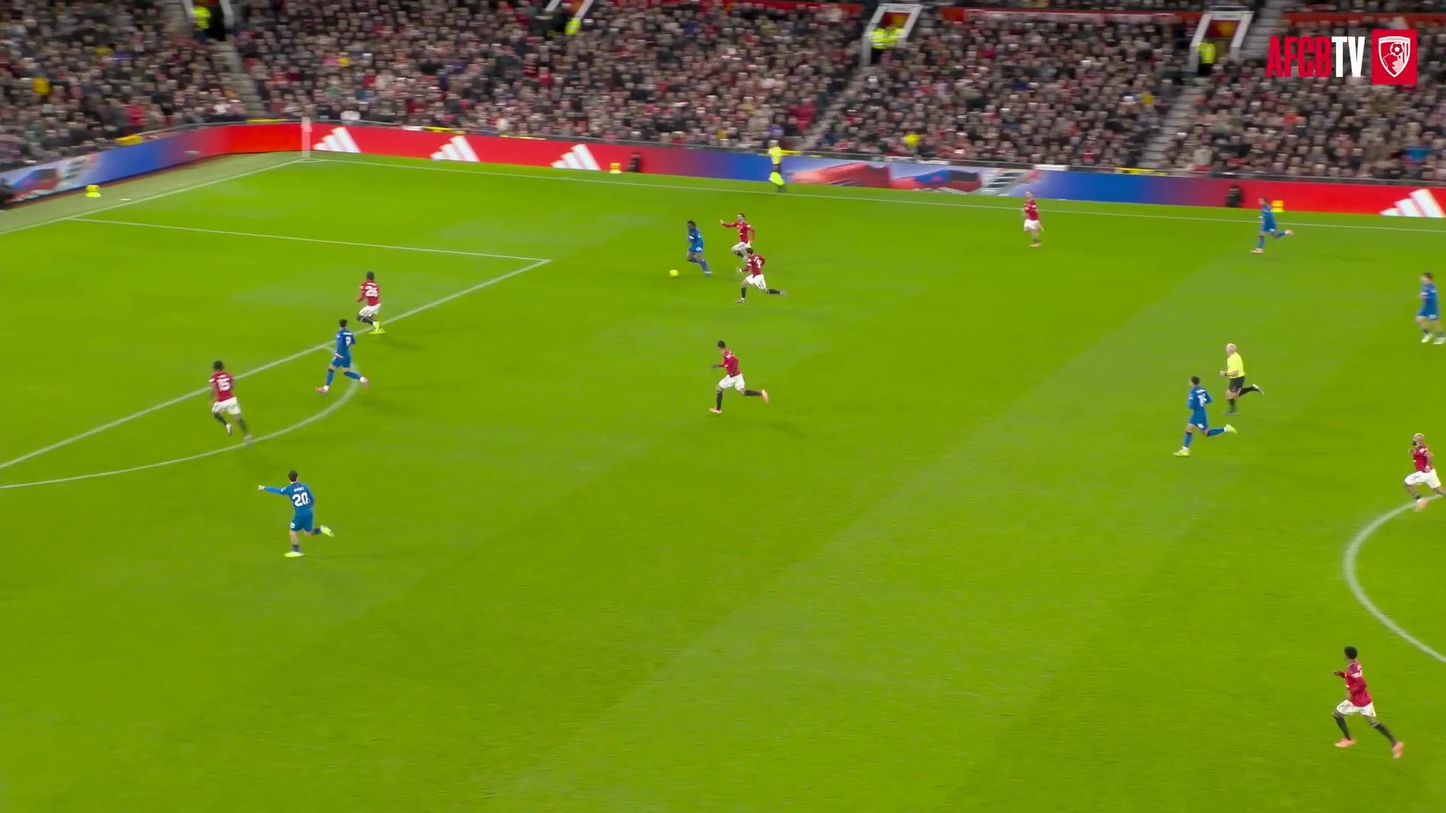football: (665, 267, 685, 282)
player: (1332, 646, 1404, 758), (258, 470, 334, 557), (1174, 376, 1235, 456), (709, 340, 768, 413), (316, 319, 368, 393), (209, 361, 252, 443), (1404, 433, 1445, 510), (736, 248, 786, 302), (1252, 197, 1292, 253), (1416, 272, 1445, 344), (357, 271, 384, 333), (720, 213, 755, 257), (687, 220, 710, 276), (1021, 192, 1042, 247)
referee: (1220, 344, 1262, 414), (768, 140, 785, 191)
